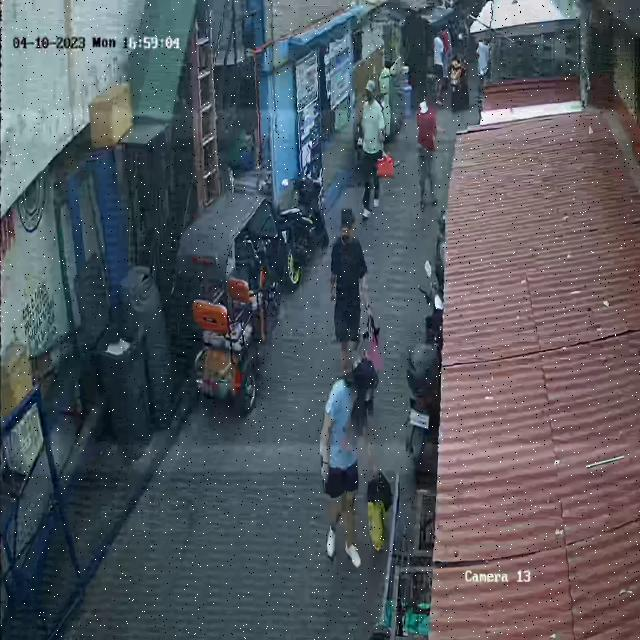human: (320, 357, 394, 567), (330, 208, 381, 376), (360, 80, 394, 218)
trash: (365, 467, 393, 551), (359, 307, 389, 381), (377, 145, 396, 186)
